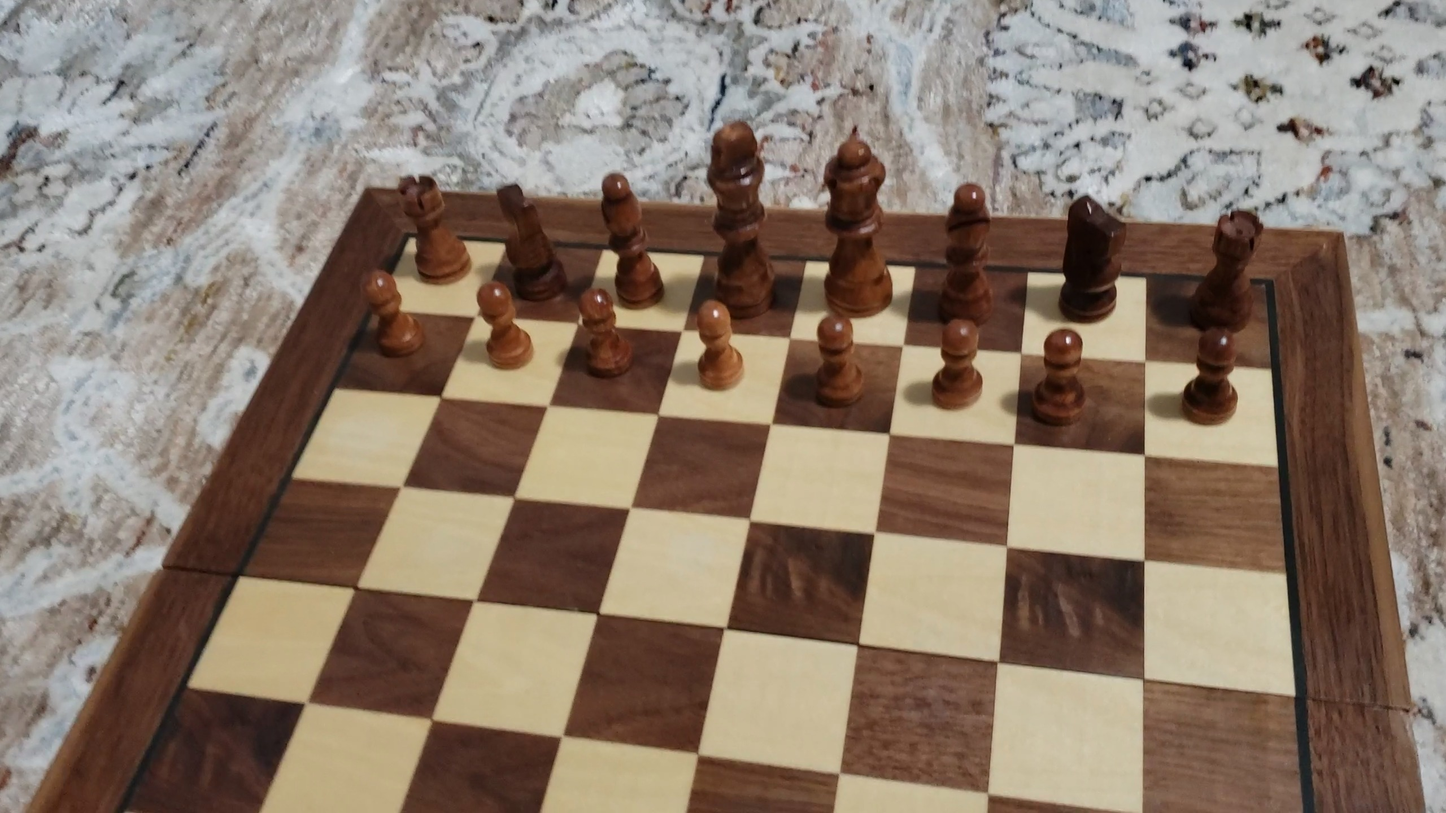black-bishop: (599, 169, 663, 308), (940, 178, 994, 323)
black-king: (703, 115, 779, 319)
black-knight: (1057, 192, 1126, 321), (496, 181, 564, 301)
black-pawn: (1179, 327, 1242, 427), (1030, 326, 1090, 429), (359, 266, 424, 361), (474, 279, 534, 373), (813, 312, 866, 410), (578, 286, 632, 381), (931, 316, 985, 411), (691, 298, 744, 393)
black-queen: (818, 120, 894, 316)
black-rook: (1186, 207, 1262, 331), (396, 173, 473, 285)
